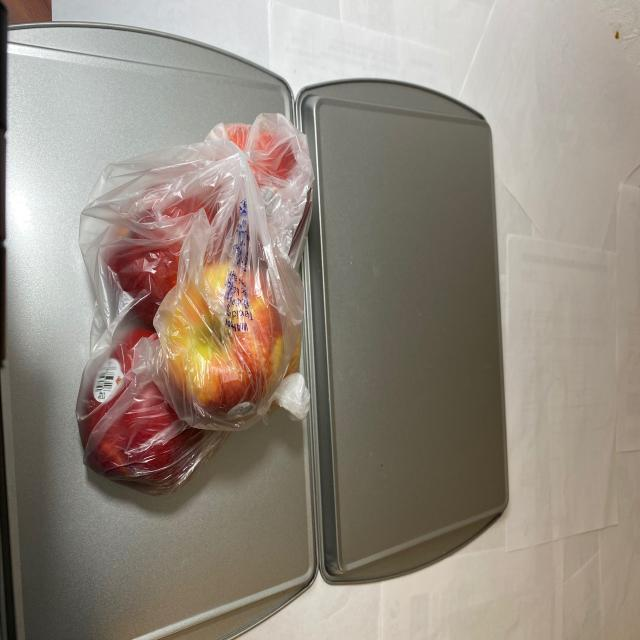apple: (76, 111, 318, 499)
